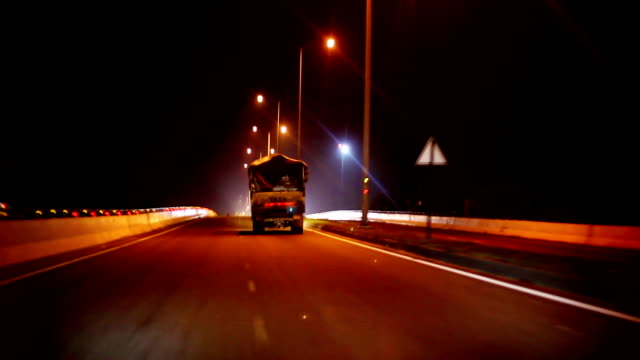truck: (250, 155, 307, 235)
